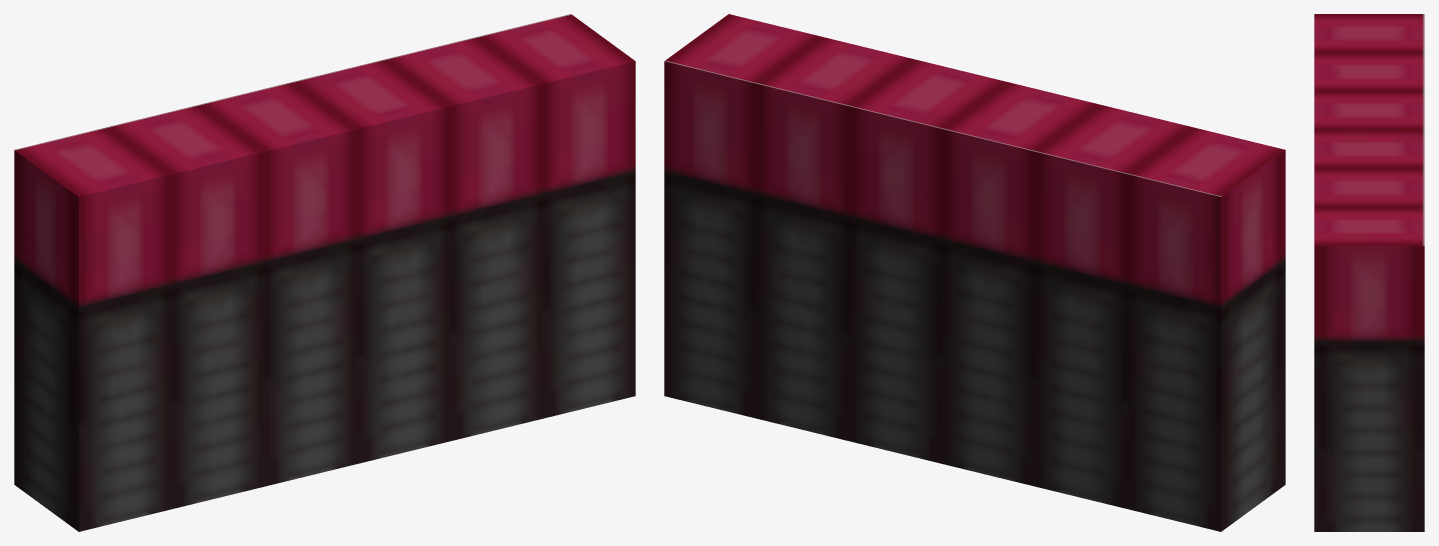
File: BarrierTokyoTall.glb
The picture shows the model from 3 angles, left to right: view 1: azimuth 30°, elevation 25°; view 2: azimuth 150°, elevation 25°; view 3: azimuth 270°, elevation 25°; orthographic projection. The views are drawn at different scales.
Visible parts, largest first — view 1: BarrierTokyoTall; view 2: BarrierTokyoTall; view 3: BarrierTokyoTall.
Boxes of the visible parts, <box> form: BarrierTokyoTall: <box>14,14,635,531</box>; BarrierTokyoTall: <box>664,14,1285,531</box>; BarrierTokyoTall: <box>1314,14,1424,531</box>.
Size of the model in its own units: 2.11 by 1.21 by 0.4239.
1 material, 1 textured.
